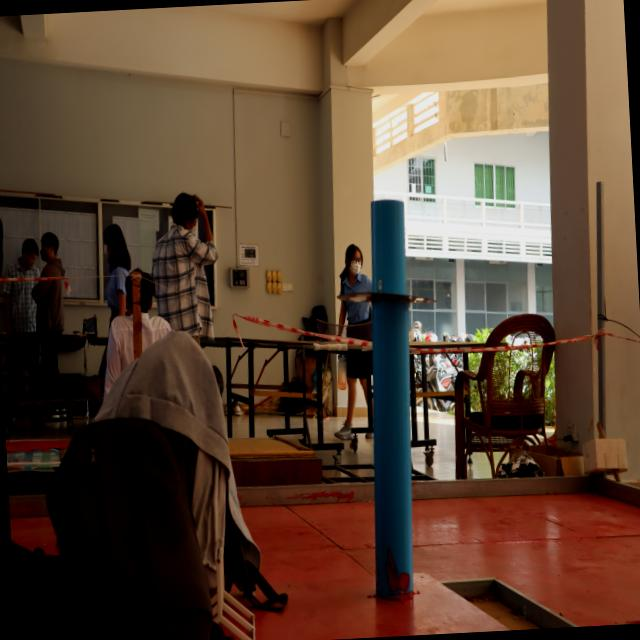pole: (331, 192, 442, 396)
